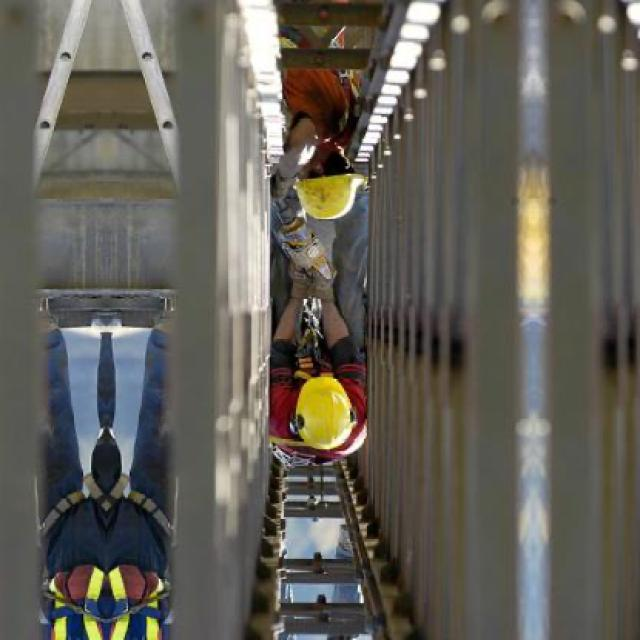con casco: (255, 356, 367, 486), (308, 108, 376, 224)
